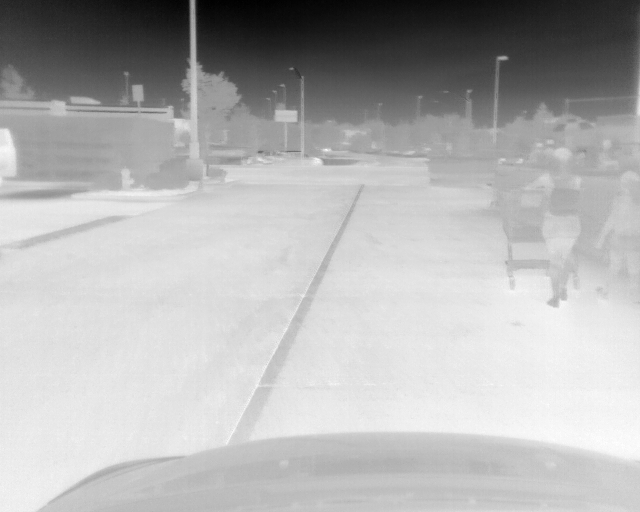car: (241, 149, 285, 167), (287, 147, 322, 165)
people: (524, 145, 583, 308), (591, 169, 640, 307), (594, 136, 614, 169)
